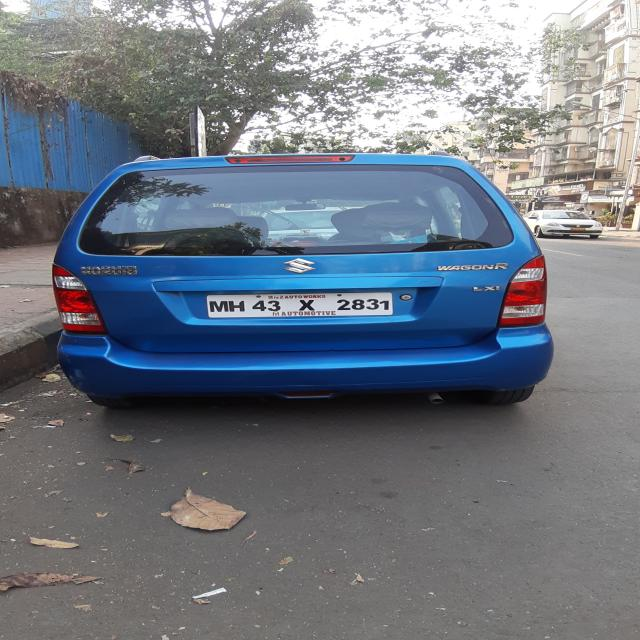Number-Plate: (206, 294, 392, 314)
